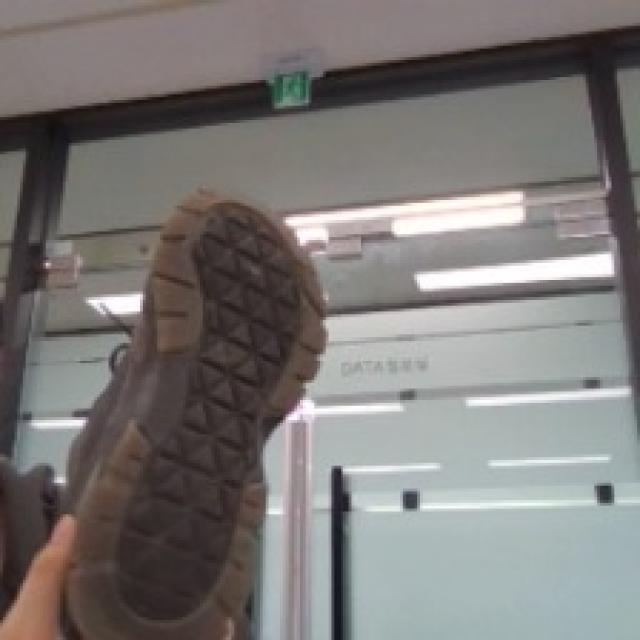shoes: (59, 189, 328, 640)
